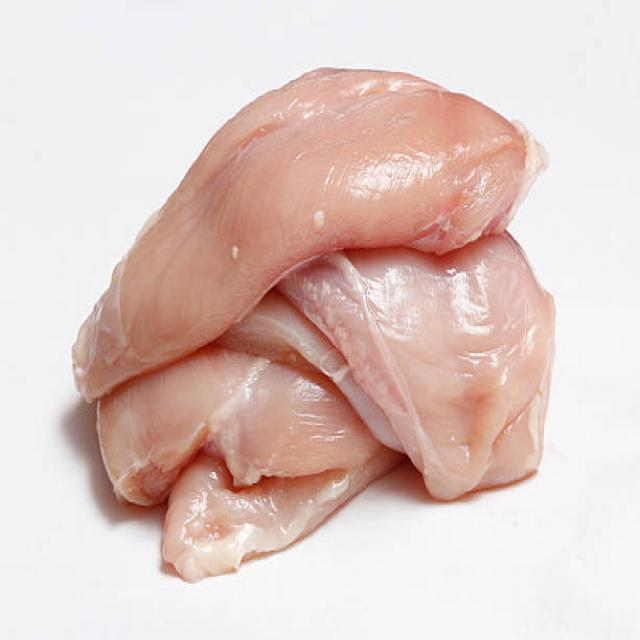Chicken: (98, 54, 543, 241), (108, 351, 345, 572), (325, 241, 543, 456)
